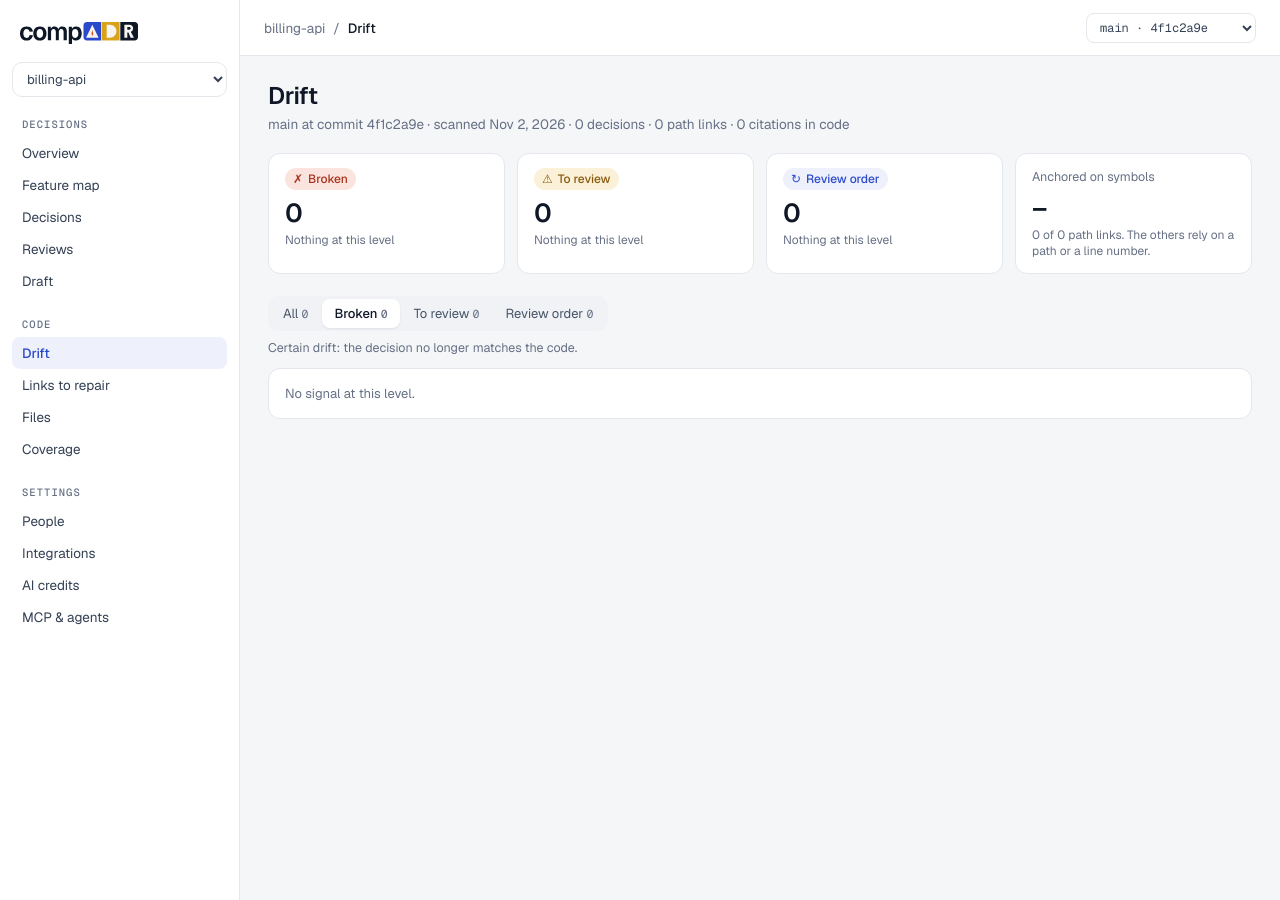
Test: reports › states the report on the views that are not ready yet
Check: the text "main at commit 4f1c2a9e" is shown, box [268,115,850,133]
Click the button "Overview" at (120, 153), box [12,137,227,169]
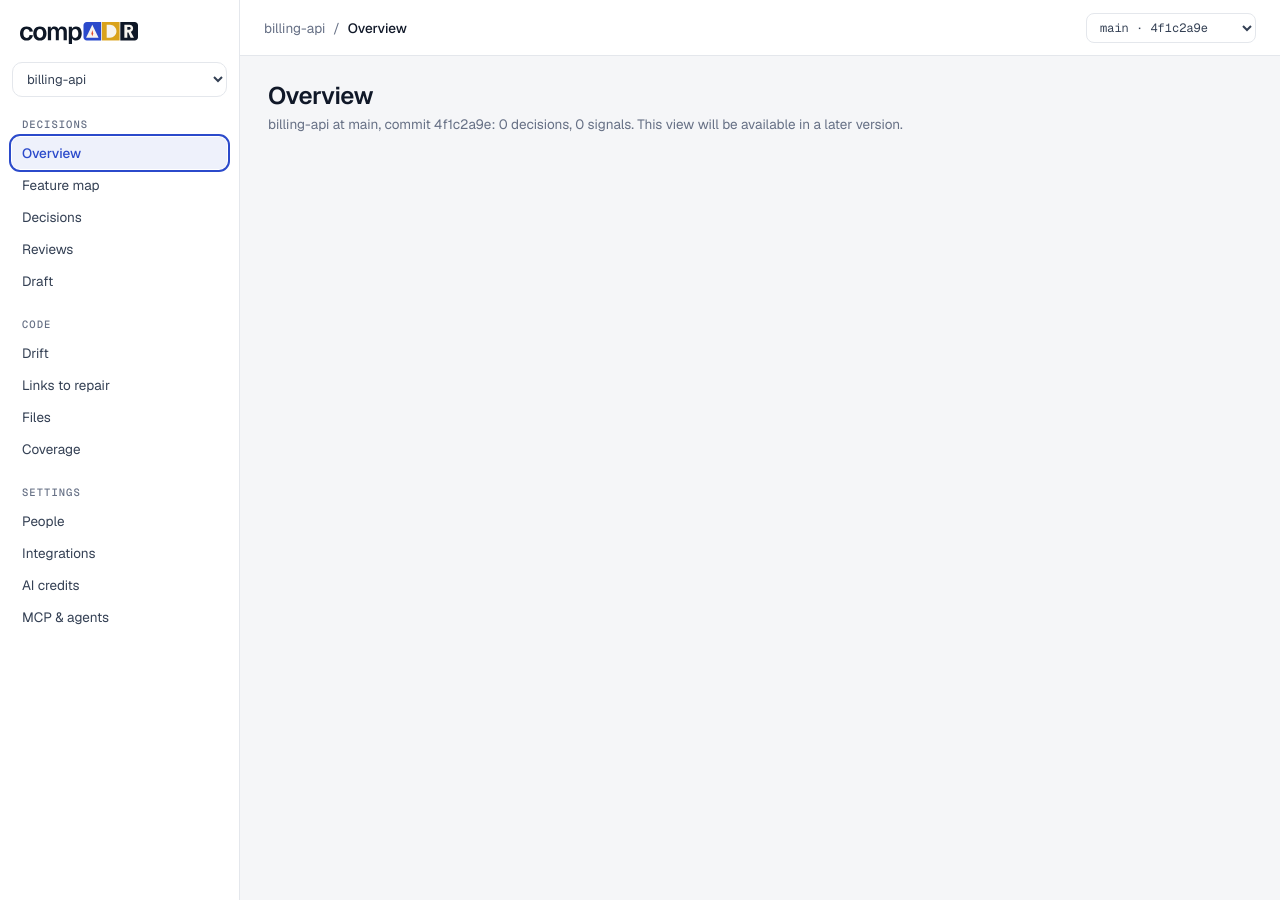
Check: the text with class "content-note" shows "billing-api at main, commit 4f1c2a9e: 0 decisions, 0 signals.", box [268,115,903,133]
